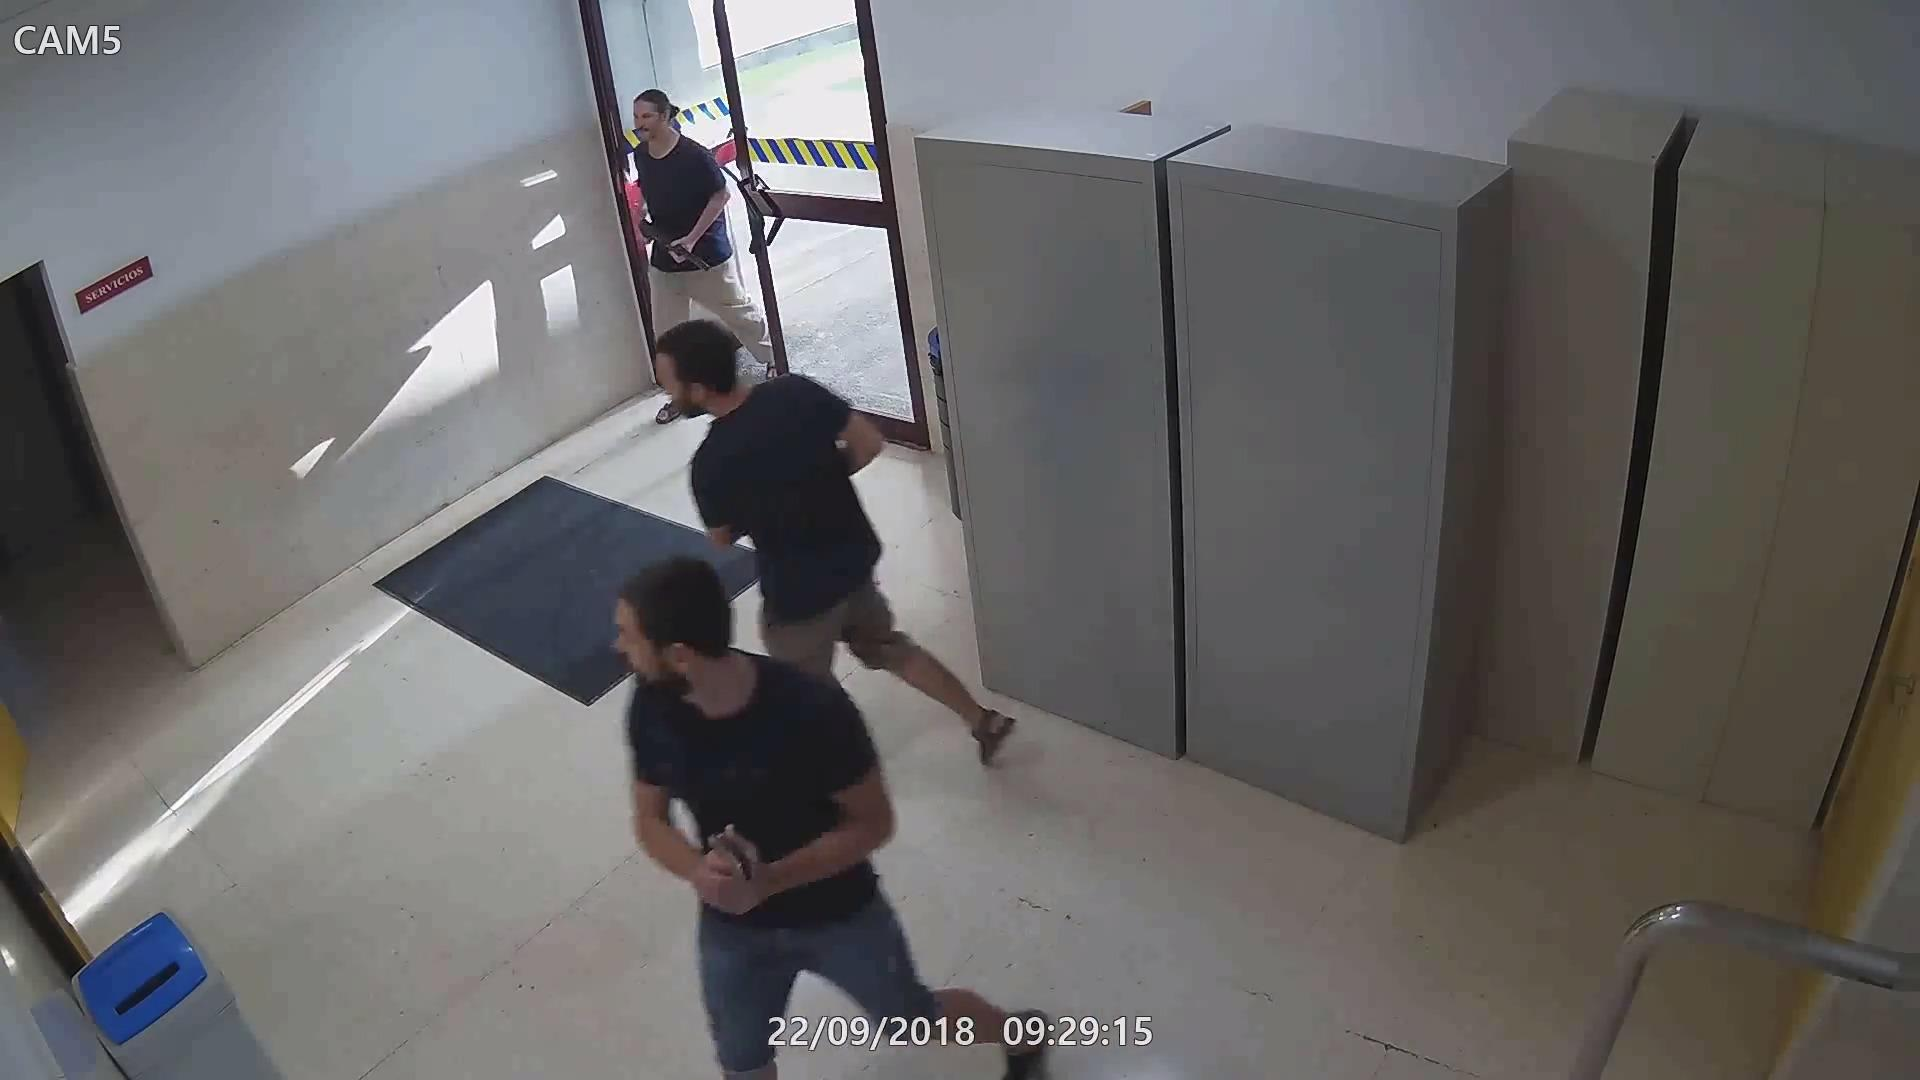Handgun: (696, 825, 766, 922)
